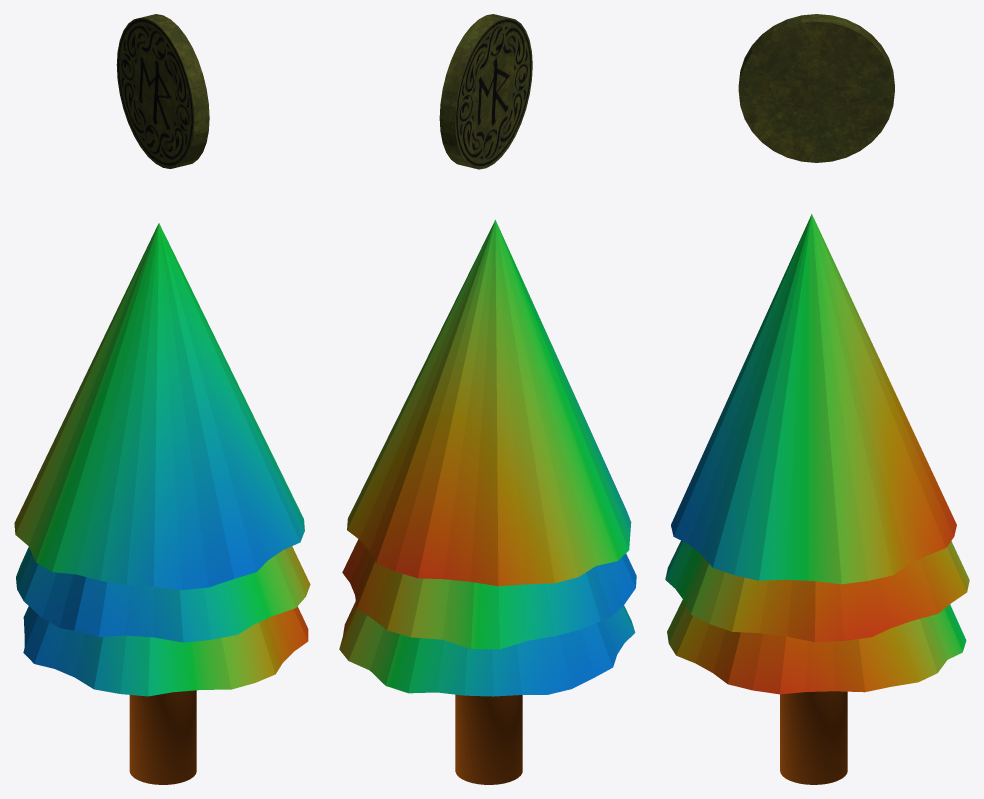
Rendered from EirTree.fbx.
The picture shows the model from 3 angles, left to right: view 1: azimuth 30°, elevation 25°; view 2: azimuth 150°, elevation 25°; view 3: azimuth 270°, elevation 25°; orthographic projection.
Visible parts, largest first — view 1: Cylinder, Circle; view 2: Cylinder, Circle; view 3: Cylinder, Circle.
Part boxes in pixels (left/top/right/bottom): Cylinder: left=14, top=223, right=310, bottom=784; Circle: left=116, top=14, right=209, bottom=168; Cylinder: left=339, top=220, right=636, bottom=784; Circle: left=439, top=14, right=532, bottom=169; Cylinder: left=665, top=214, right=969, bottom=784; Circle: left=738, top=14, right=894, bottom=162.
Size of the model in its own units: 191 by 533 by 195.
